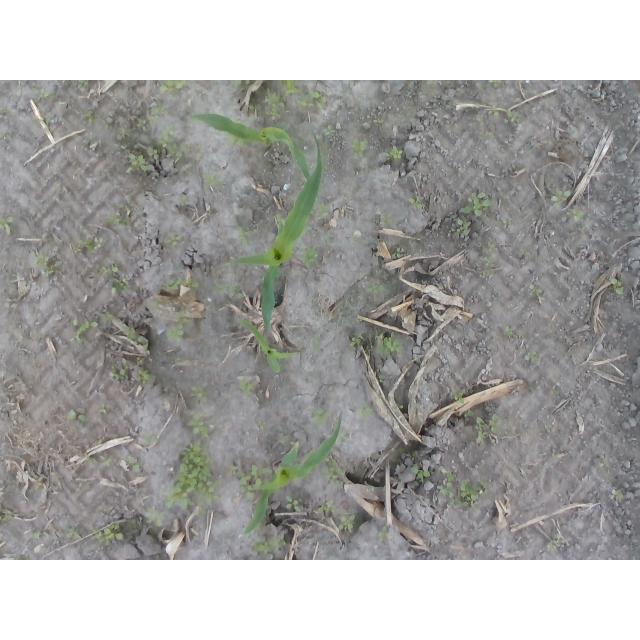Maize: (213, 133, 321, 338), (242, 413, 342, 535), (185, 113, 312, 182), (236, 317, 297, 375)
Weeds: (162, 440, 219, 517), (449, 480, 490, 509), (240, 464, 271, 500), (147, 128, 181, 160), (124, 327, 152, 355), (476, 413, 501, 443), (89, 523, 123, 545), (321, 456, 343, 489), (464, 192, 493, 217), (72, 319, 99, 345), (252, 534, 286, 554), (31, 254, 61, 276), (481, 243, 499, 278), (375, 331, 403, 353), (264, 91, 284, 121), (185, 413, 209, 437), (213, 281, 243, 299), (438, 468, 455, 497), (165, 277, 200, 290), (77, 237, 103, 254), (552, 189, 573, 210), (125, 154, 148, 173), (111, 357, 129, 381), (159, 81, 187, 96), (298, 247, 318, 266), (147, 508, 166, 528), (310, 408, 330, 427), (167, 324, 185, 344), (148, 104, 165, 125), (238, 377, 256, 396), (548, 534, 569, 550), (280, 80, 301, 96), (309, 89, 325, 110), (32, 87, 54, 102), (337, 515, 355, 533), (411, 466, 430, 483), (352, 138, 367, 159), (112, 277, 129, 295), (190, 386, 208, 403), (284, 496, 302, 513), (366, 283, 386, 298), (227, 132, 245, 148), (456, 218, 472, 236), (356, 403, 372, 421), (237, 226, 251, 246), (0, 216, 14, 236), (202, 172, 218, 189), (385, 146, 403, 161), (318, 501, 338, 514), (609, 278, 624, 295), (106, 217, 129, 228), (174, 311, 194, 323), (451, 387, 466, 403), (68, 409, 87, 421), (315, 203, 331, 217), (568, 207, 584, 221), (228, 464, 245, 477), (118, 199, 135, 212), (42, 113, 56, 128), (137, 369, 151, 384), (99, 311, 118, 322), (164, 234, 181, 246), (409, 196, 424, 209), (379, 526, 390, 543), (349, 334, 363, 347), (118, 126, 130, 141), (67, 527, 82, 539), (128, 457, 140, 472), (295, 98, 313, 108), (508, 110, 520, 124), (523, 352, 537, 364), (136, 117, 147, 131), (81, 113, 95, 124), (379, 213, 393, 224), (312, 334, 321, 351), (100, 266, 119, 274), (609, 490, 624, 500), (276, 212, 285, 228), (100, 456, 113, 467), (87, 454, 98, 466), (489, 104, 500, 116), (142, 434, 154, 445), (504, 325, 517, 335), (529, 283, 542, 293), (113, 142, 127, 151), (1, 130, 12, 141), (0, 504, 6, 524), (280, 439, 297, 446), (323, 125, 336, 134), (34, 476, 42, 490), (549, 385, 559, 396), (391, 247, 401, 258), (179, 197, 189, 207), (231, 80, 251, 85), (98, 403, 107, 414), (78, 80, 90, 88), (488, 80, 500, 88), (32, 530, 41, 540), (182, 141, 191, 151), (256, 419, 264, 430), (249, 104, 258, 113), (476, 113, 484, 123), (503, 218, 513, 226), (405, 452, 415, 460), (102, 120, 110, 129), (376, 375, 384, 384), (136, 356, 144, 365), (521, 249, 531, 256), (339, 435, 350, 441), (464, 410, 472, 418), (0, 105, 8, 113), (325, 234, 331, 244), (365, 346, 372, 354), (551, 449, 557, 458), (579, 226, 586, 233), (396, 403, 404, 409), (376, 119, 385, 124), (352, 235, 358, 242), (427, 81, 438, 84)
